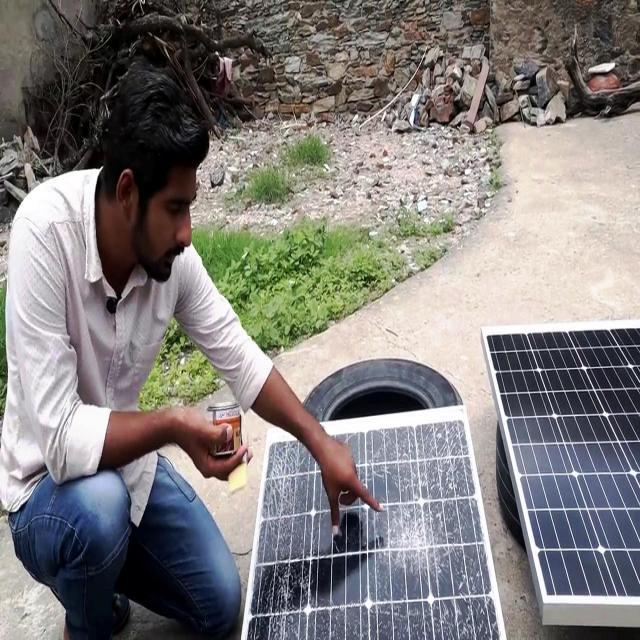faulty: (245, 407, 503, 637)
no faulty: (481, 327, 640, 607)
